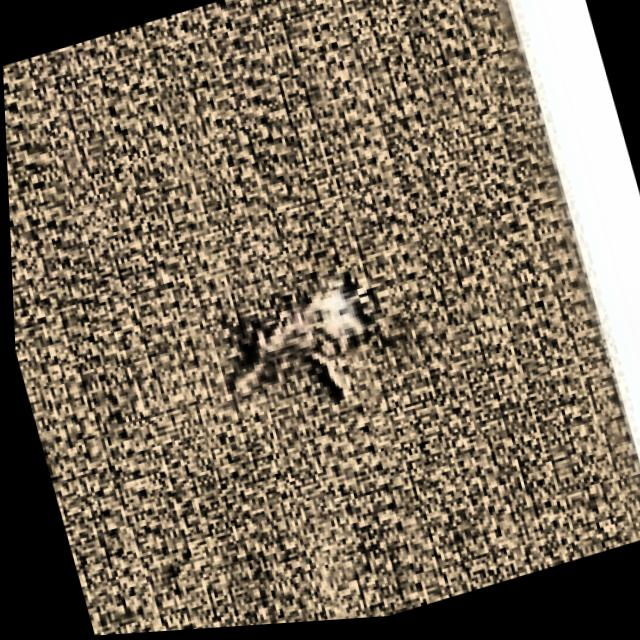Hole: (183, 240, 436, 463)
